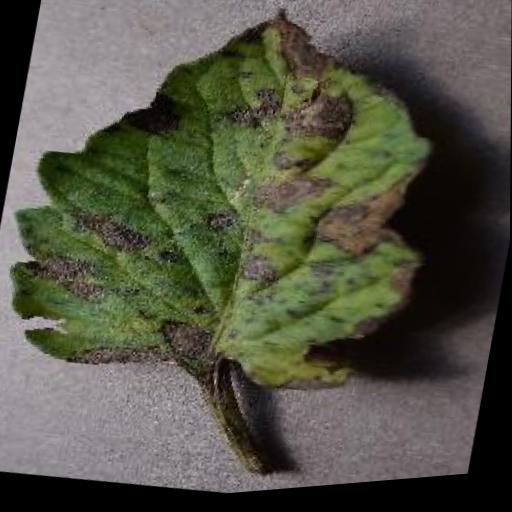Early Blight: (0, 0, 461, 437)
